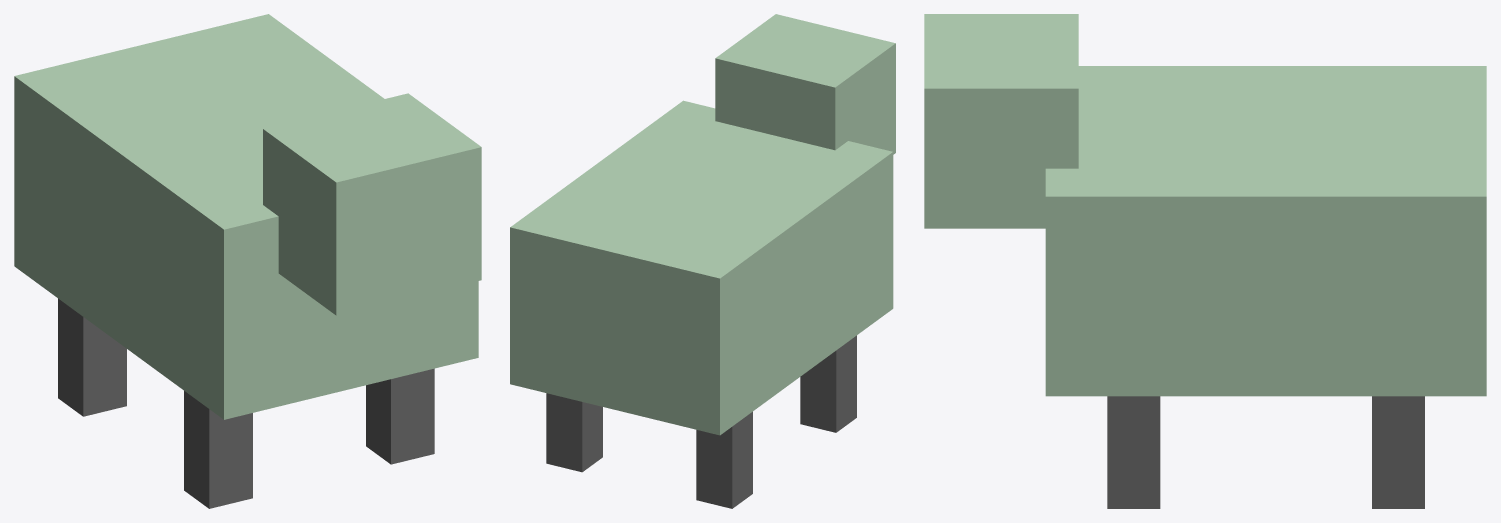
The model's file is Mob_DS_MossGoat_Adult5.glb.
The picture shows the model from 3 angles, left to right: view 1: azimuth 30°, elevation 25°; view 2: azimuth 150°, elevation 25°; view 3: azimuth 270°, elevation 25°; orthographic projection. The views are drawn at different scales.
Visible parts, largest first — view 1: Cube.004, Cube.005, Cube, Cube.001, Cube.002; view 2: Cube.004, Cube.005, Cube.001, Cube, Cube.003; view 3: Cube.004, Cube.005, Cube.002, Cube.003.
Boxes of the visible parts, box(x1,y1,x2,y2) form: Cube.004: box(14, 14, 478, 419); Cube.005: box(263, 93, 481, 315); Cube: box(184, 391, 252, 508); Cube.001: box(58, 298, 126, 416); Cube.002: box(366, 368, 434, 464); Cube.004: box(510, 100, 893, 435); Cube.005: box(715, 14, 895, 154); Cube.001: box(696, 411, 752, 508); Cube: box(800, 335, 856, 432); Cube.003: box(546, 393, 602, 472); Cube.004: box(1045, 66, 1486, 396); Cube.005: box(924, 14, 1078, 228); Cube.002: box(1107, 396, 1160, 508); Cube.003: box(1372, 396, 1424, 508).
Size of the model in its own units: 0.875 by 1.25 by 1.59.
